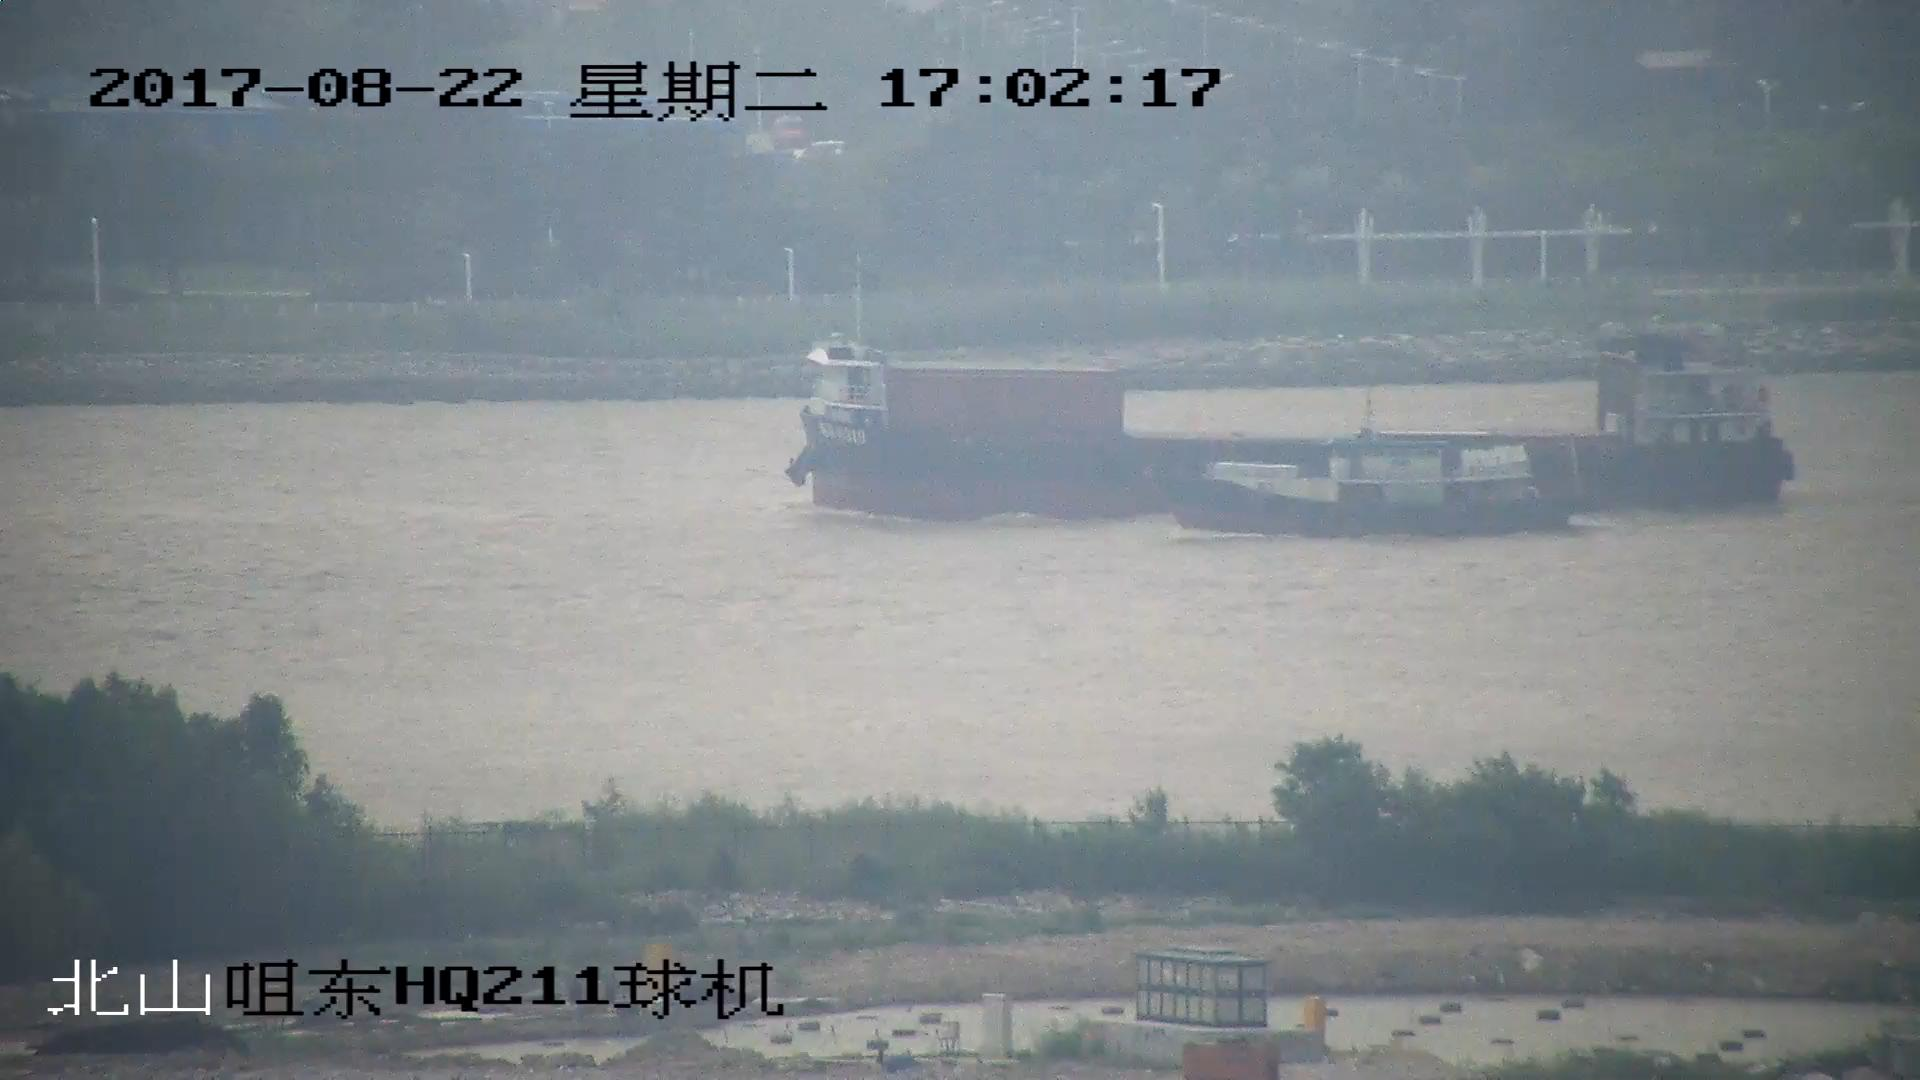fishing boat: (1182, 429, 1572, 541)
general cargo ship: (793, 331, 1793, 520)
